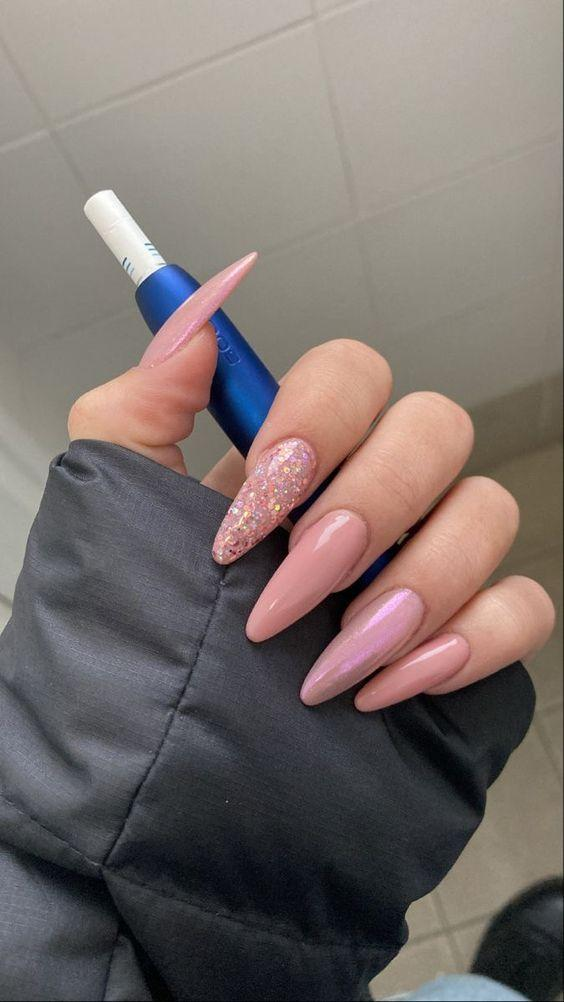iqos: (82, 189, 282, 462)
